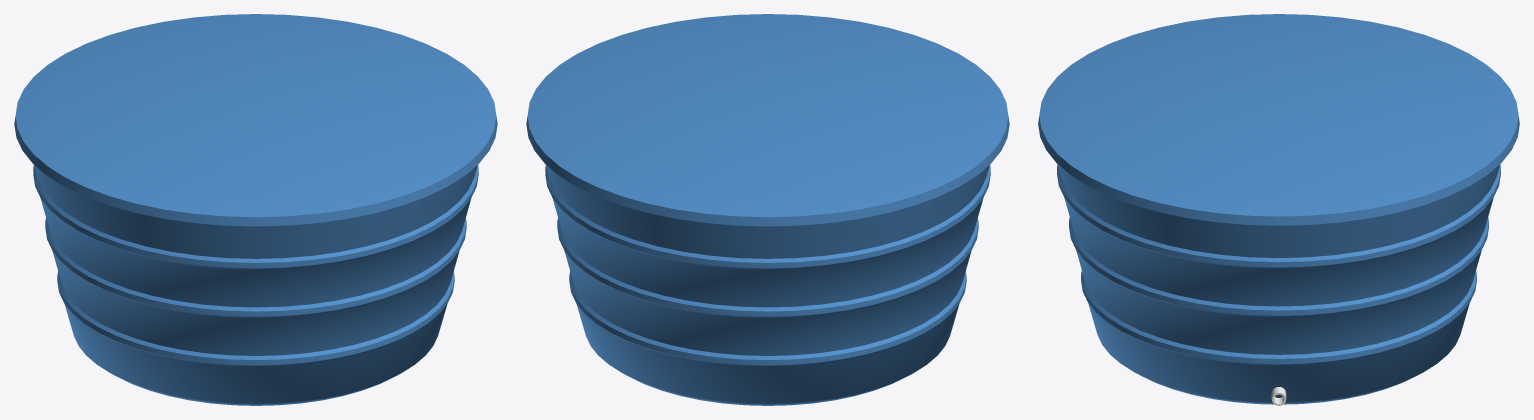
The model's file is HID-RES-003_lod1.glb.
3 views of the same model, side by side, from view 1: azimuth 30°, elevation 25°; view 2: azimuth 150°, elevation 25°; view 3: azimuth 270°, elevation 25° (orthographic).
Parts seen in each view (by area): view 1: HID-RES-003_tampa, HID-RES-003_corpo; view 2: HID-RES-003_tampa, HID-RES-003_corpo; view 3: HID-RES-003_tampa, HID-RES-003_corpo.
Part boxes in pixels (x1=…): HID-RES-003_tampa: x1=14, y1=14, x2=497, y2=226; HID-RES-003_corpo: x1=33, y1=165, x2=478, y2=405; HID-RES-003_tampa: x1=526, y1=14, x2=1009, y2=226; HID-RES-003_corpo: x1=545, y1=165, x2=990, y2=405; HID-RES-003_tampa: x1=1038, y1=14, x2=1519, y2=225; HID-RES-003_corpo: x1=1057, y1=164, x2=1500, y2=404.
Bounding box in the file's own units: 2 × 1.05 × 2.
